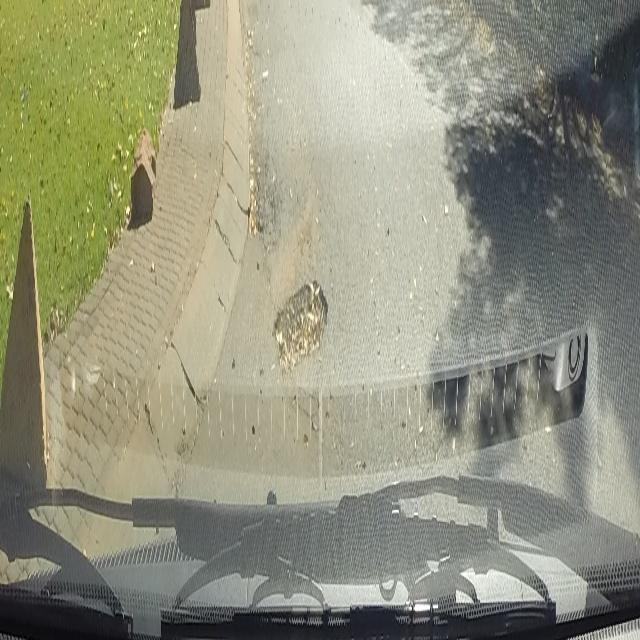pothole: (272, 272, 328, 376)
